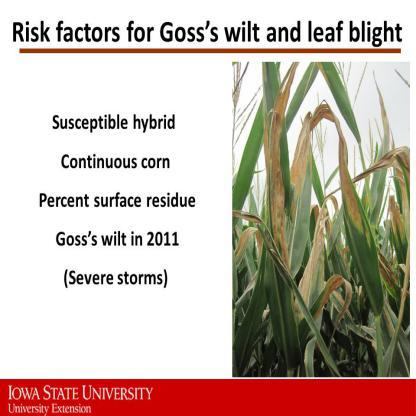Corn leaf blight: (313, 102, 386, 324), (262, 63, 304, 359), (351, 146, 412, 263), (295, 204, 332, 378), (282, 107, 312, 284)
